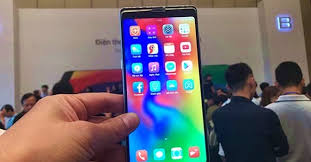bphone: (115, 3, 213, 162)
